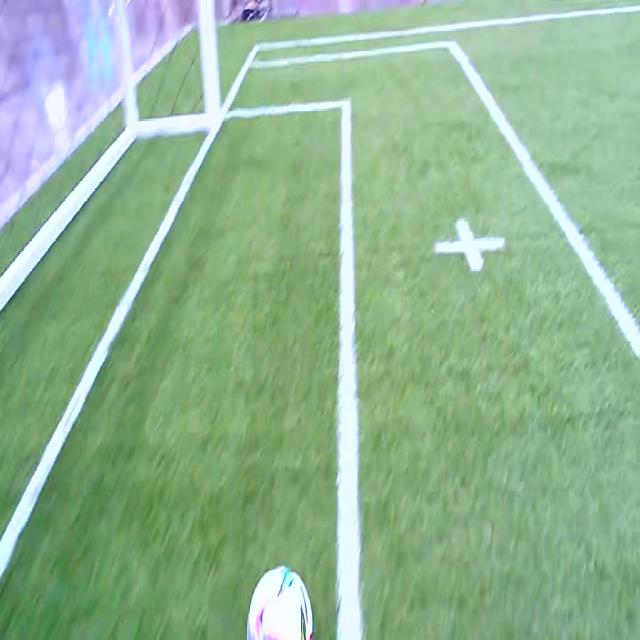ball: (246, 565, 313, 640)
